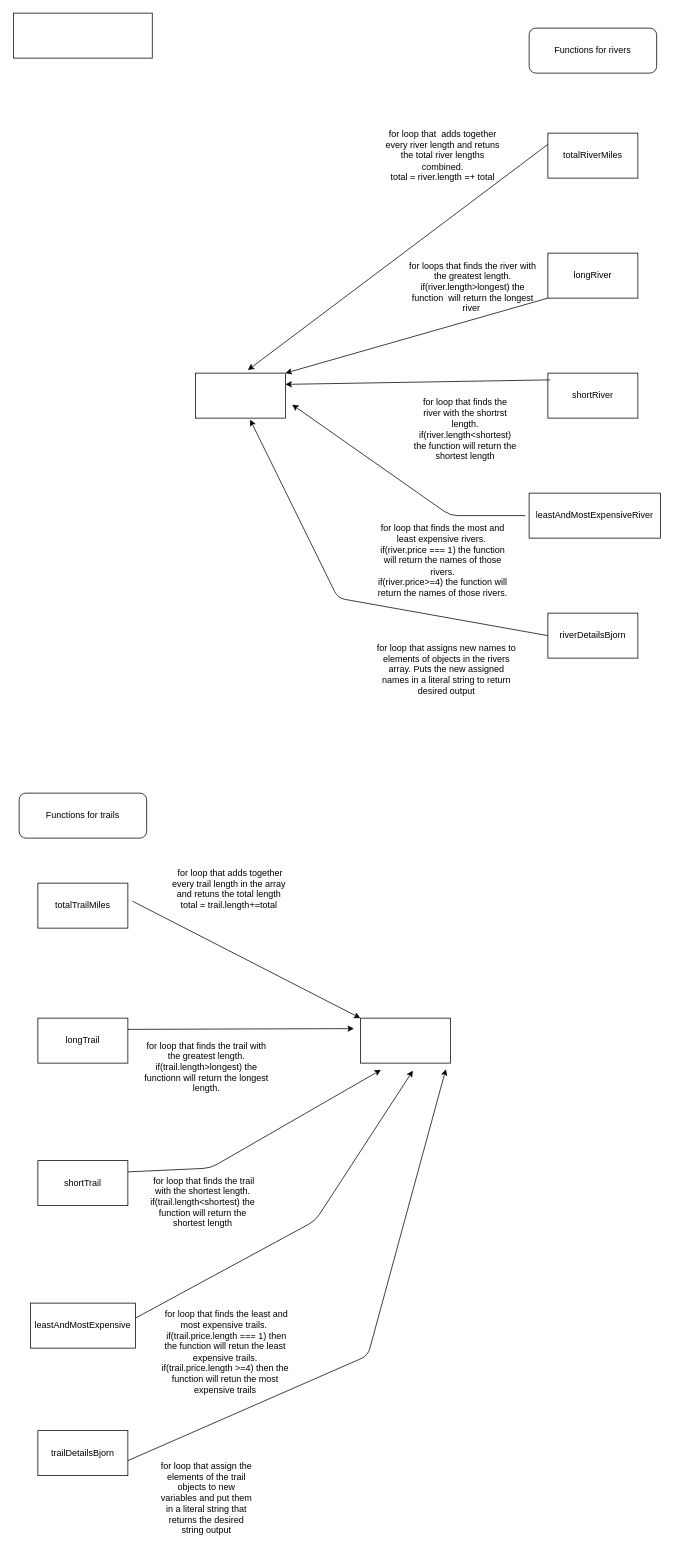
Some shapes in this 674 by 1549 pixel diagram are drawn without their labels. The shapes that lost their labels are listed below. From the top down, each one's centre as x and y in pixels, then its label:
the point at 82,35: Bjorns Wilderness Chapter
the point at 240,395: Data for rivers
the point at 405,1040: Data for trials
